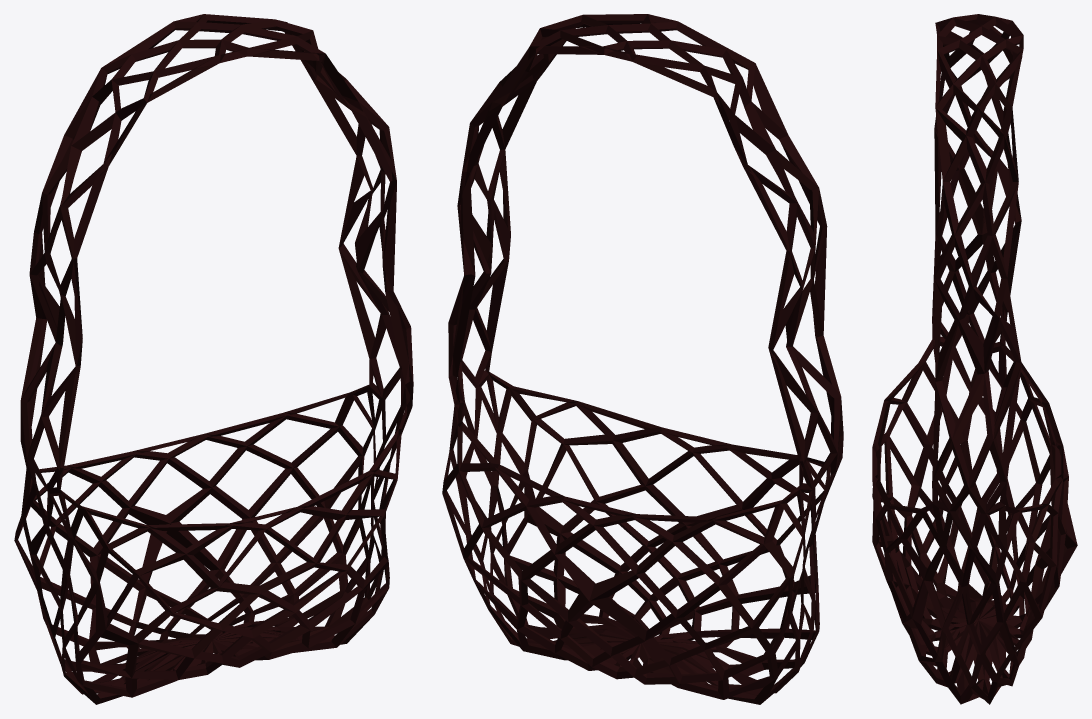
Rendered from shikiar.glb.
The picture shows the model from 3 angles, left to right: view 1: azimuth 30°, elevation 25°; view 2: azimuth 150°, elevation 25°; view 3: azimuth 270°, elevation 25°; orthographic projection. The views are drawn at different scales.
Visible parts, largest first — view 1: Sphere; view 2: Sphere; view 3: Sphere.
Boxes of the visible parts, bbox=[...] form: Sphere: bbox=[14, 14, 413, 704]; Sphere: bbox=[442, 14, 843, 704]; Sphere: bbox=[872, 14, 1077, 704].
Size of the model in its own units: 1.96 by 3.14 by 0.9604.
